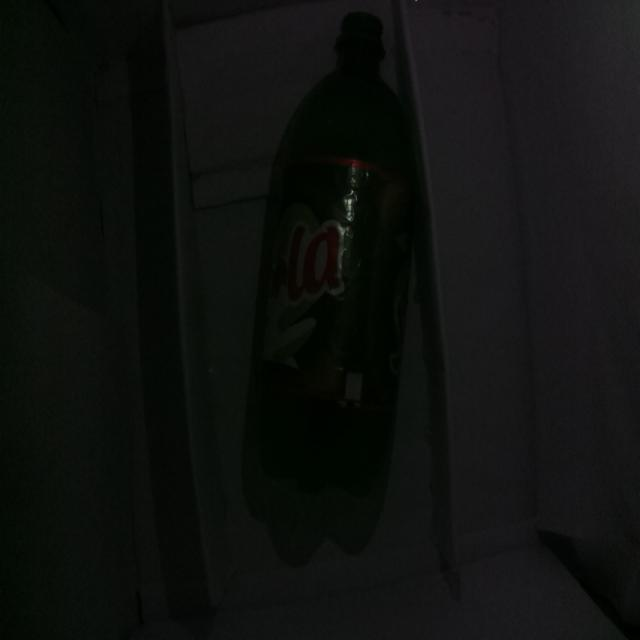good: (242, 9, 434, 564)
